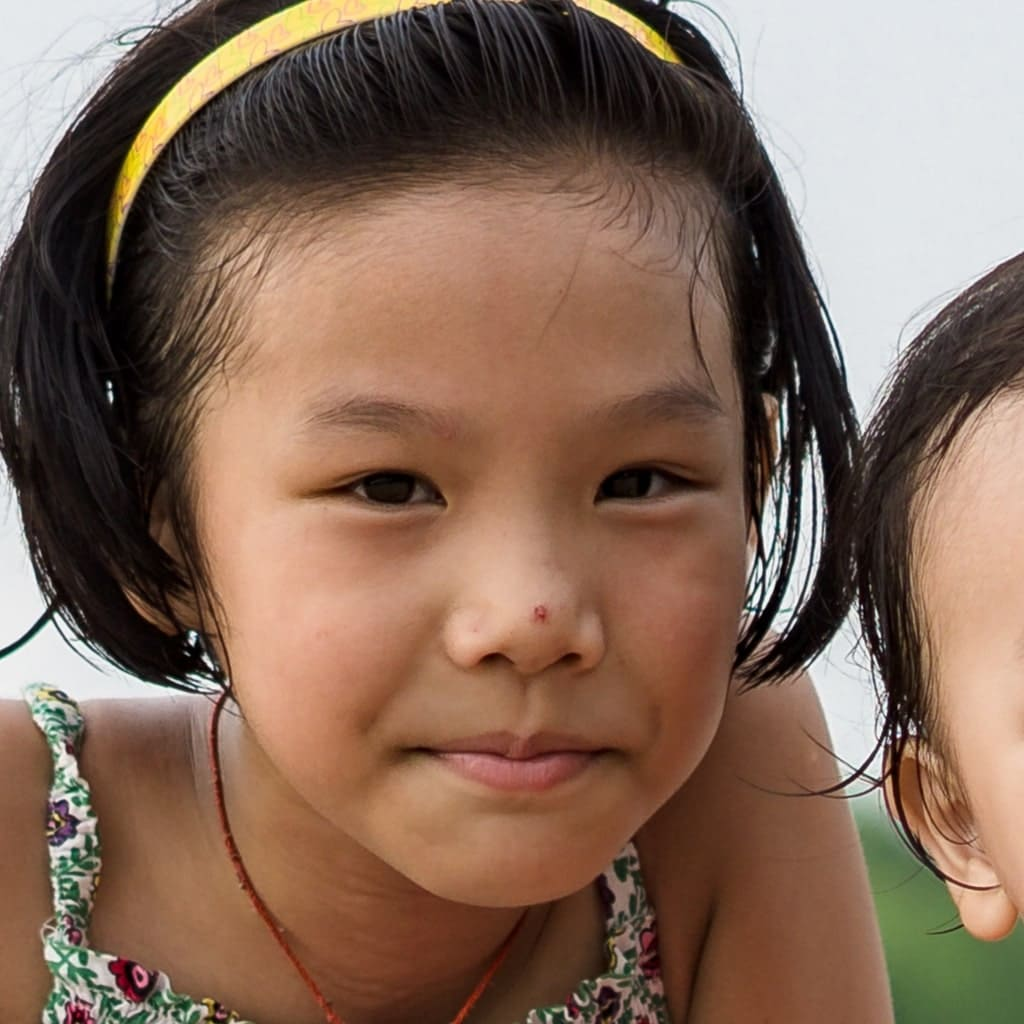without_mask: (244, 240, 739, 834)
